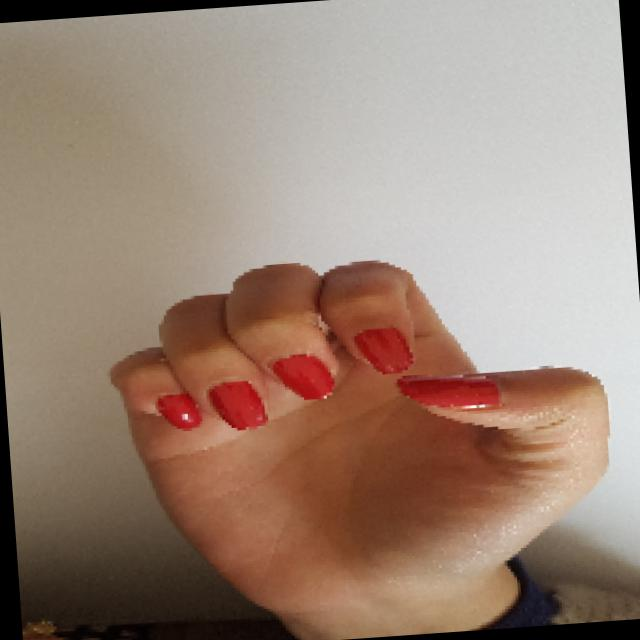Nail: (396, 375, 499, 408), (207, 380, 266, 429), (271, 354, 333, 399), (353, 327, 412, 373), (156, 392, 200, 430)
